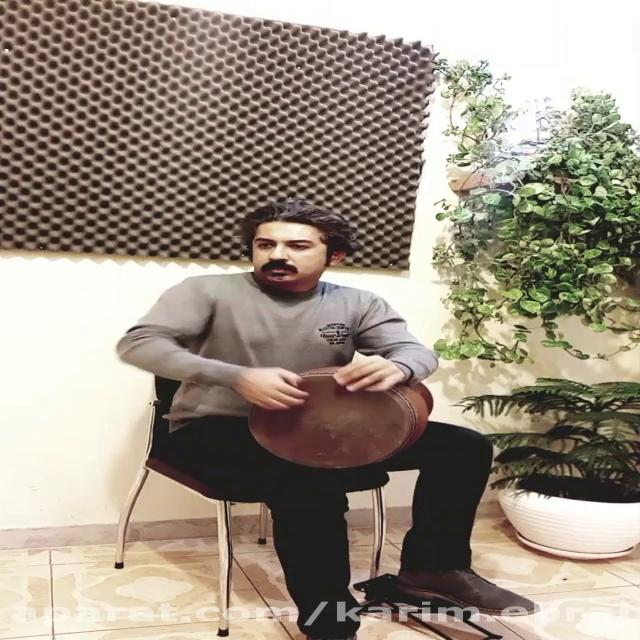Tuba: (256, 369, 432, 464)
